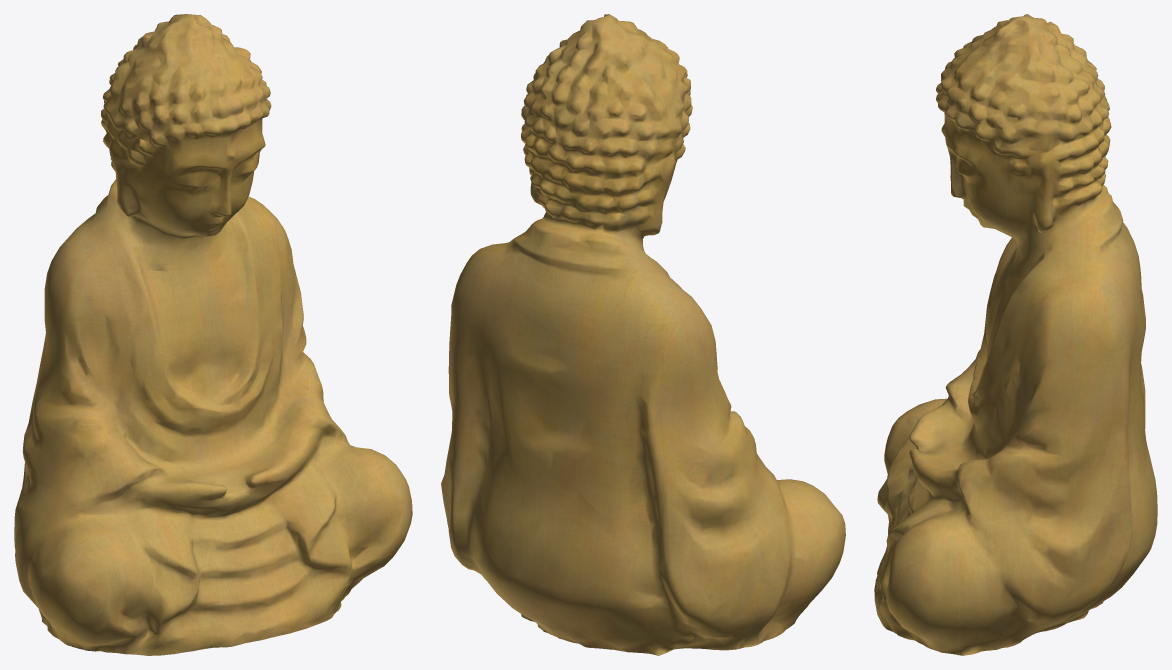
The model's file is Figure 1.fbx.
The picture shows the model from 3 angles, left to right: view 1: azimuth 30°, elevation 25°; view 2: azimuth 150°, elevation 25°; view 3: azimuth 270°, elevation 25°; orthographic projection. The views are drawn at different scales.
Parts seen in each view (by area): view 1: figure 1; view 2: figure 1; view 3: figure 1.
Part boxes in pixels (<box>): figure 1: <box>14,14,412,655</box>; figure 1: <box>441,14,845,655</box>; figure 1: <box>874,14,1157,655</box>.
Size of the model in its own units: 34.88 by 53.53 by 23.81.
Materials: 1 (1 with a texture image).
